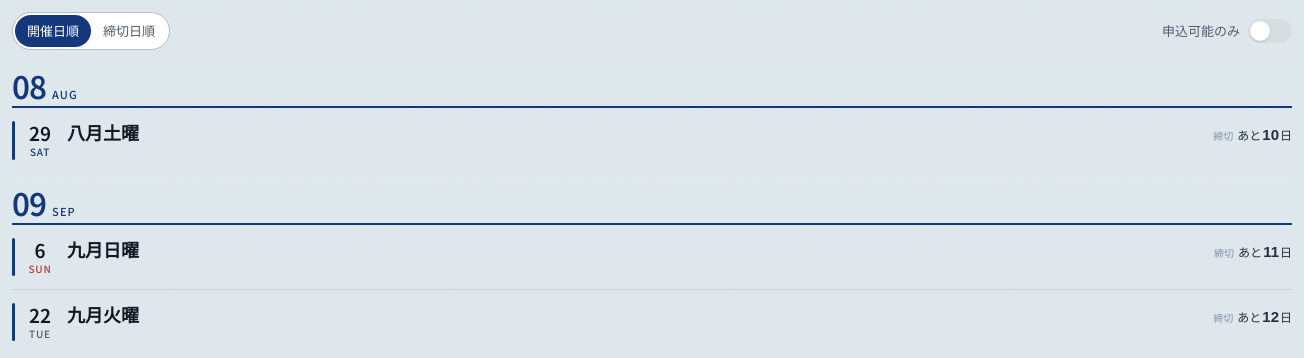
Test case: EventListClient — 月区切り（開催日順のみ） › 締切日順に切替えると月見出しが消える（フラットな現行リストに戻る）
Click the tab "締切日順": (129, 31) [91,15,167,47]
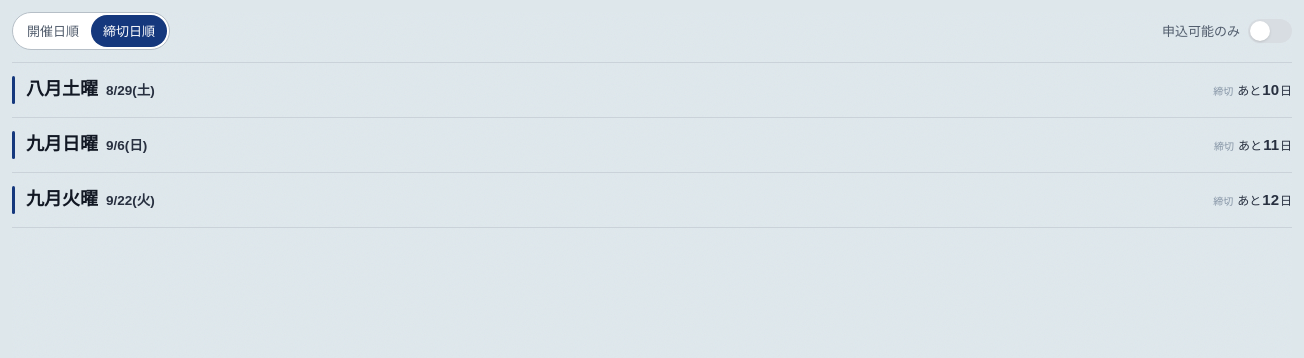
expect the text "AUG" is gone: met
expect the text "SEP" is gone: met
expect the text "08" is gone: met
Click the tab "開催日順": (53, 31) [15,15,91,47]
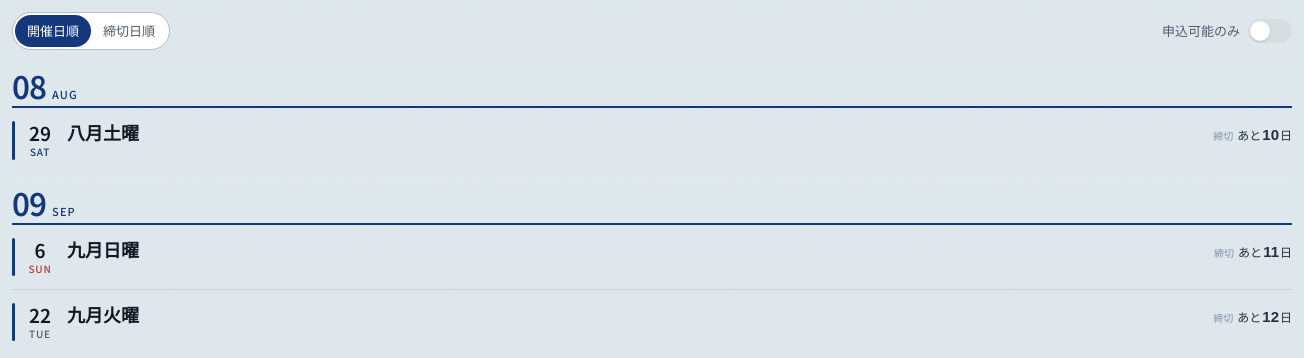
expect the text "AUG" is shown: met, box [52,86,78,103]
